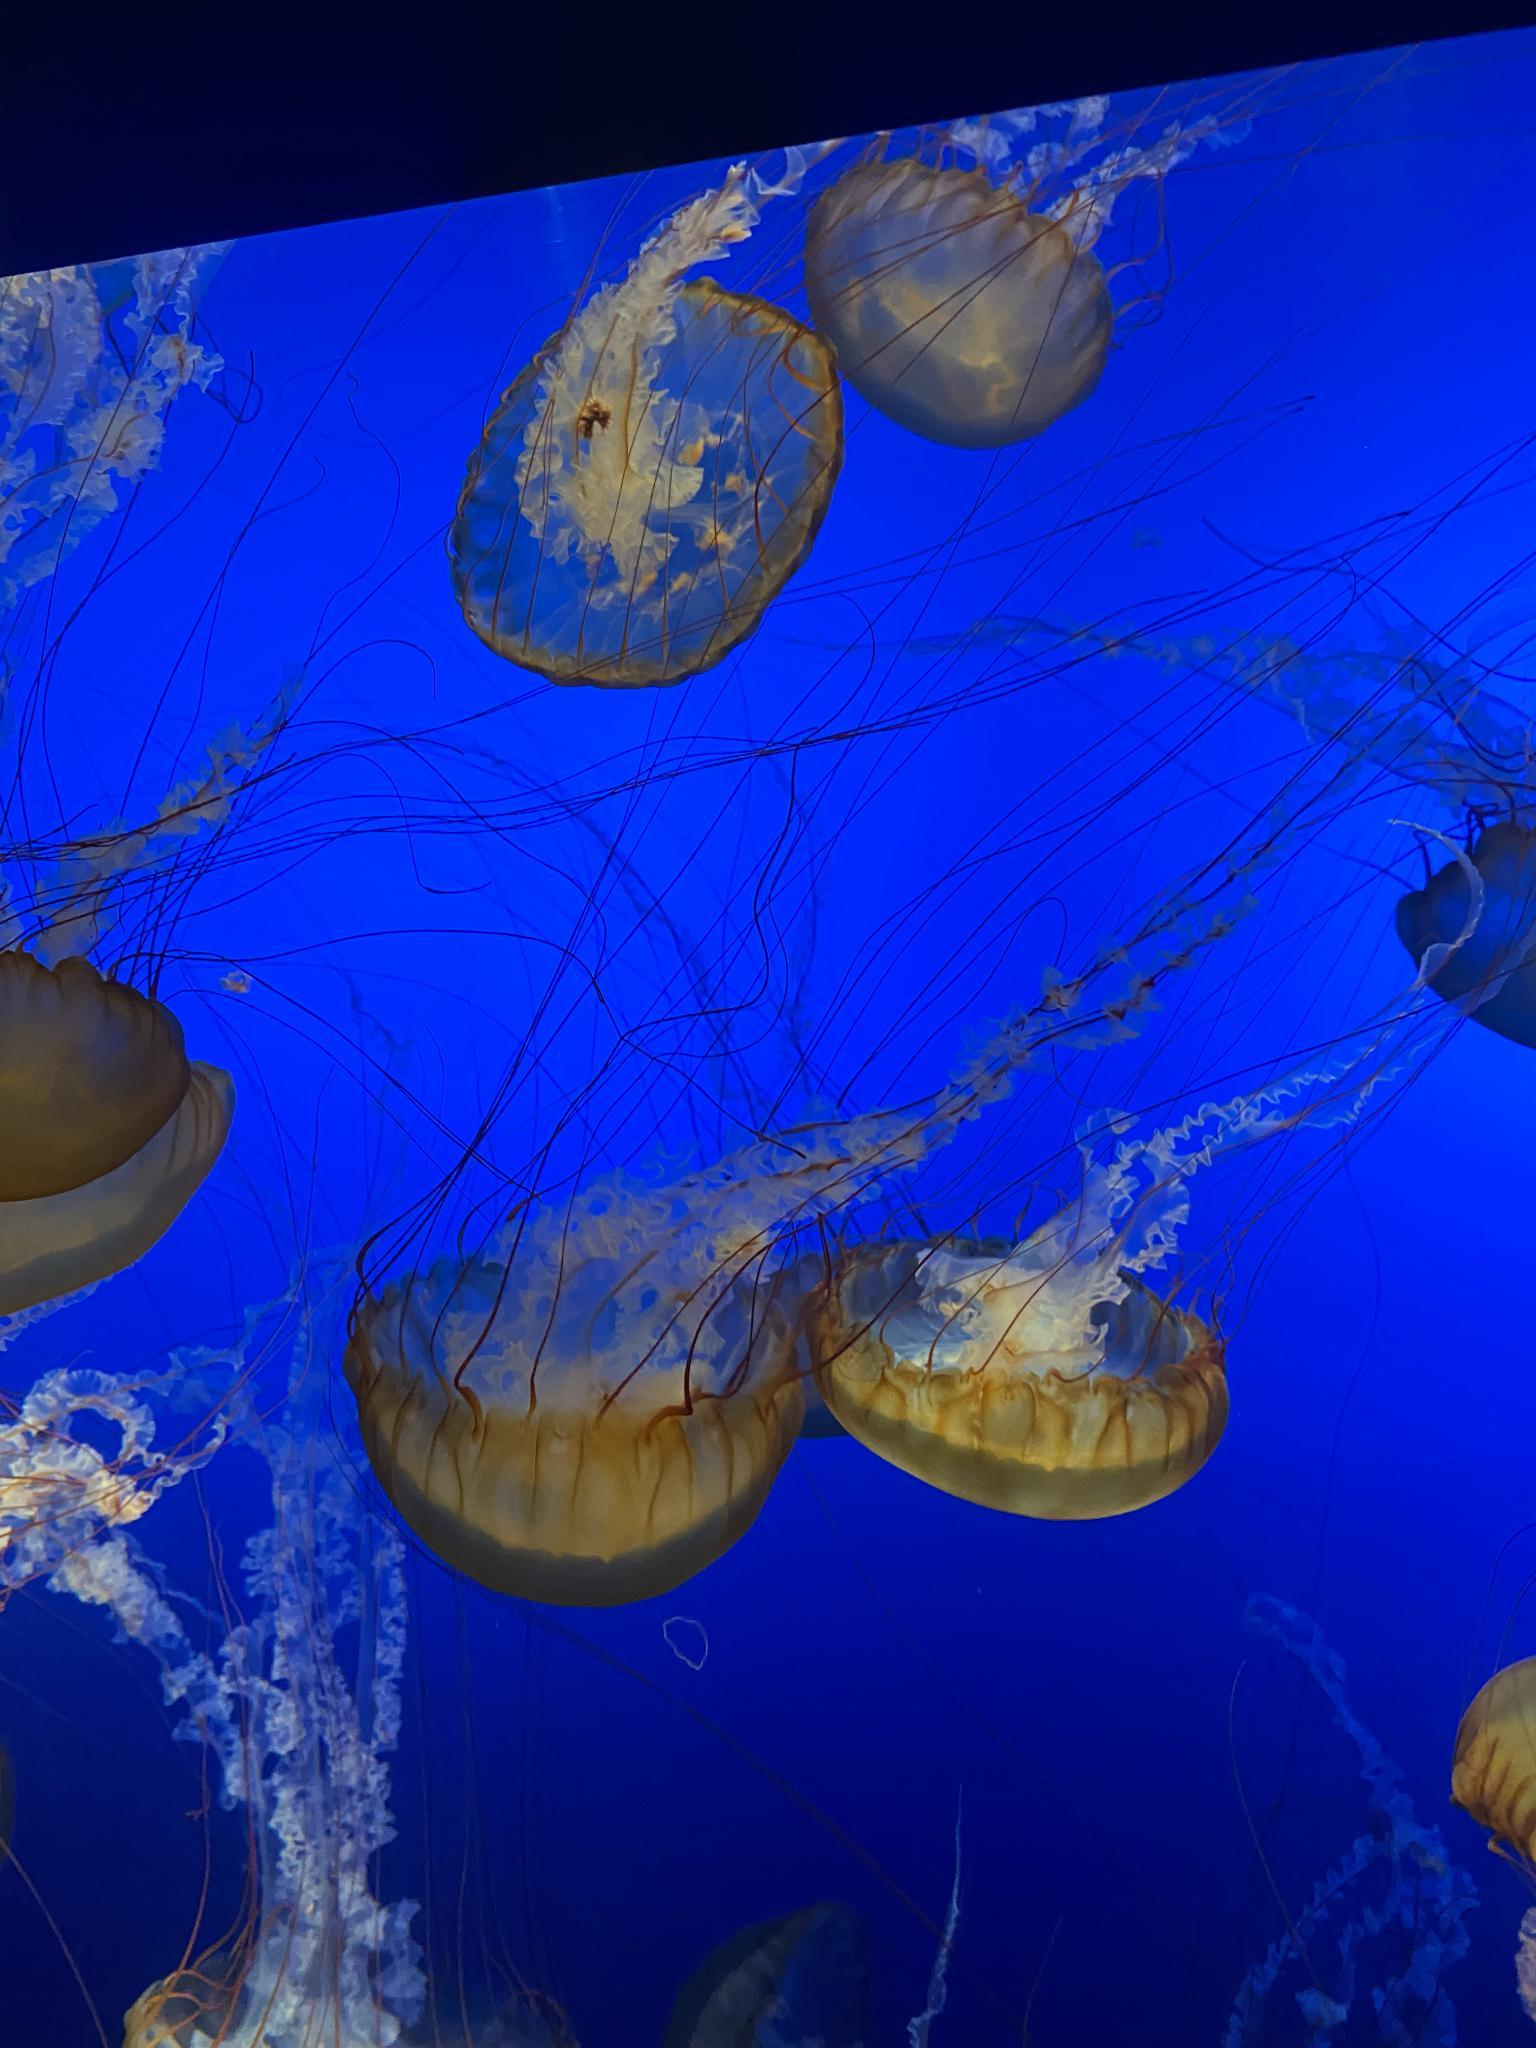jellyfish: (452, 237, 841, 671), (366, 1261, 807, 1605), (787, 1229, 1238, 1542), (818, 166, 1104, 447), (0, 942, 219, 1297), (118, 1906, 461, 2046), (1391, 803, 1536, 1064), (1423, 1625, 1536, 1854)
